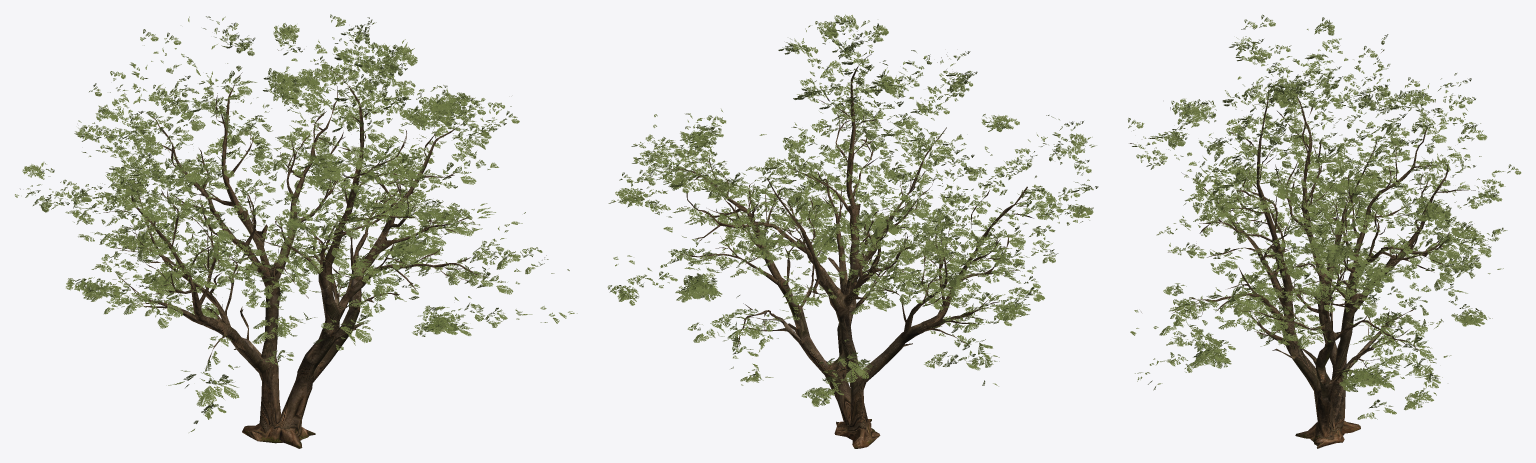
Rendered from tree-low-packed.glb.
The picture shows the model from 3 angles, left to right: view 1: azimuth 30°, elevation 25°; view 2: azimuth 150°, elevation 25°; view 3: azimuth 270°, elevation 25°; orthographic projection. The views are drawn at different scales.
Parts seen in each view (by area): view 1: jacaranda-tree-low; view 2: jacaranda-tree-low; view 3: jacaranda-tree-low.
Part boxes in pixels (x1=…): jacaranda-tree-low: x1=15, y1=14, x2=577, y2=448; jacaranda-tree-low: x1=607, y1=14, x2=1098, y2=448; jacaranda-tree-low: x1=1128, y1=14, x2=1521, y2=448.
Bounding box in the file's own units: 24.05 × 19.43 × 18.13.
3 materials, 3 textured.
